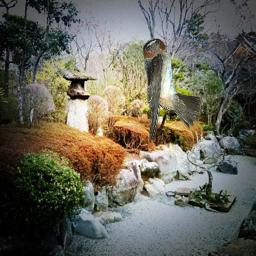Swallow: (142, 38, 201, 143)
